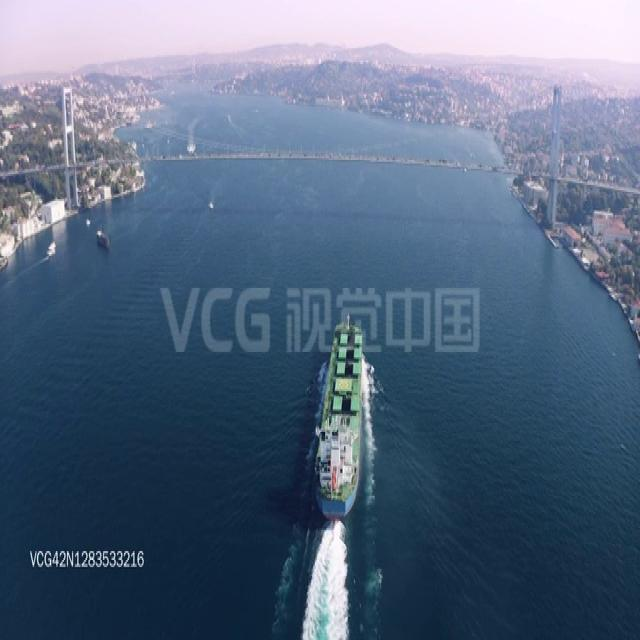cargoship: (314, 312, 368, 521)
